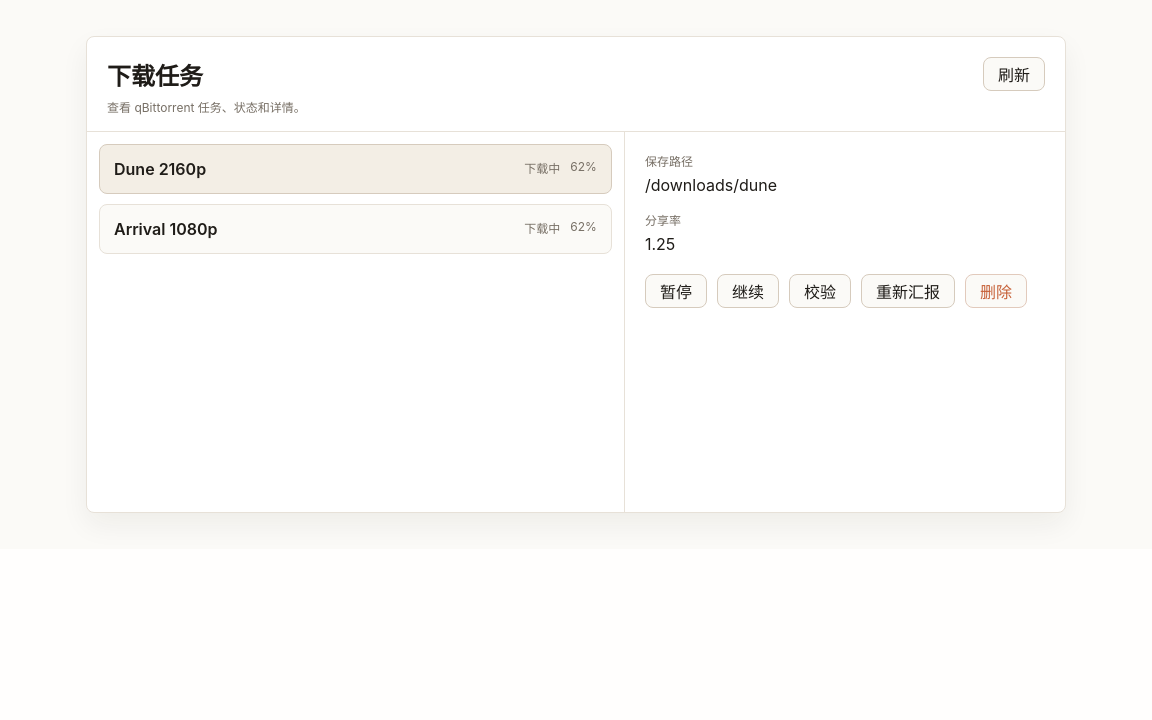
it: DownloadsPanel › clears stale detail when switching rows and keeps it cleared if the new detail load fails
Expected: the text "/downloads/dune" is shown, [645, 175, 777, 195]
Click the list item "Arrival 1080p" at (166, 229), box [99, 204, 612, 254]
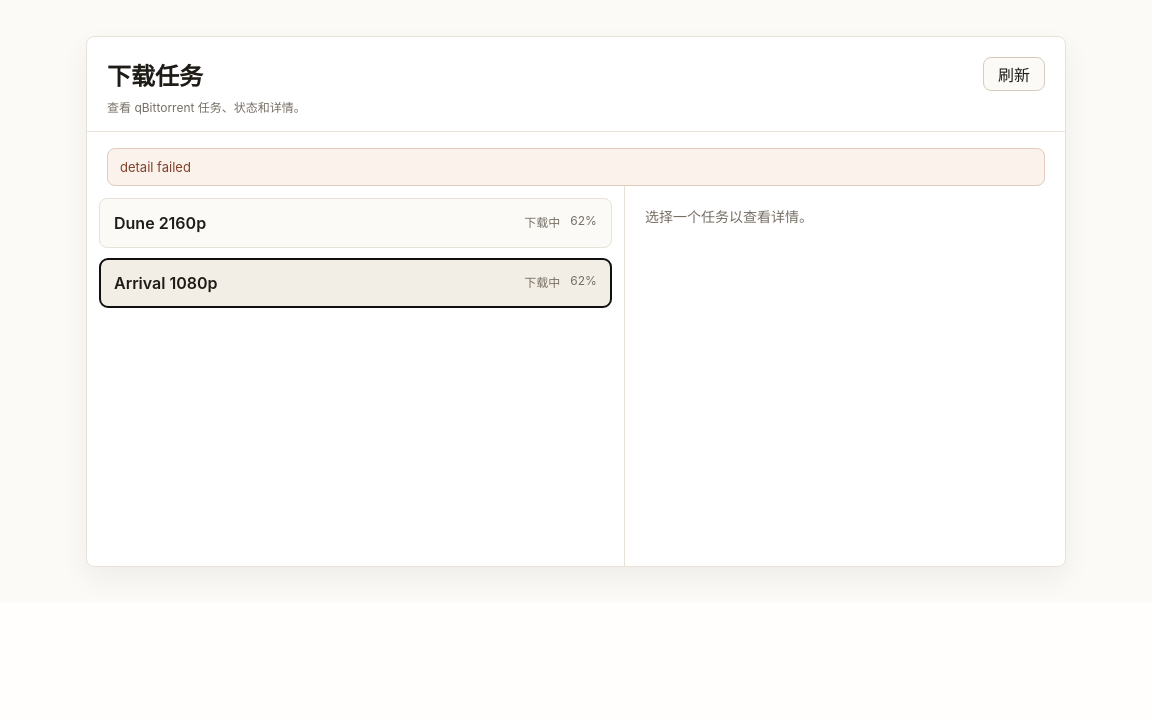
Expected: the text "选择一个任务以查看详情。" is shown, [645, 208, 813, 225]
Expected: the text "detail failed" is shown, [107, 148, 1045, 186]
Expected: the text "/downloads/dune" is gone
